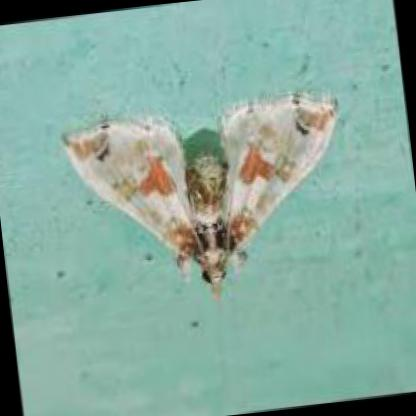leucinodes: (56, 96, 338, 296)
